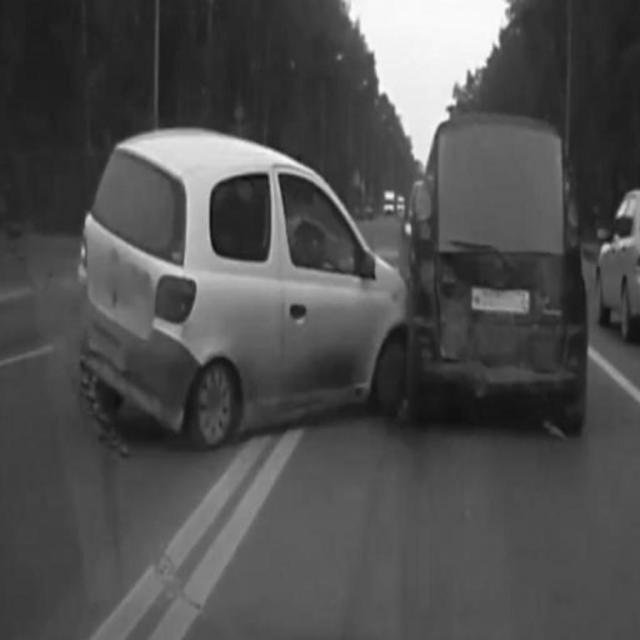accident: (76, 122, 588, 440)
vehicle: (591, 186, 640, 348)
